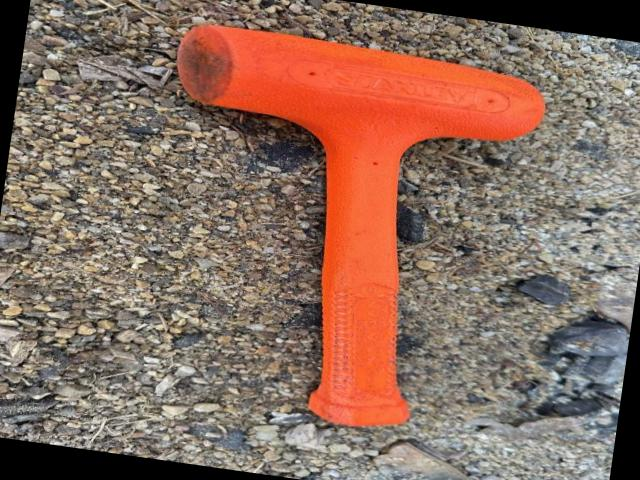hammer: (132, 20, 553, 445)
